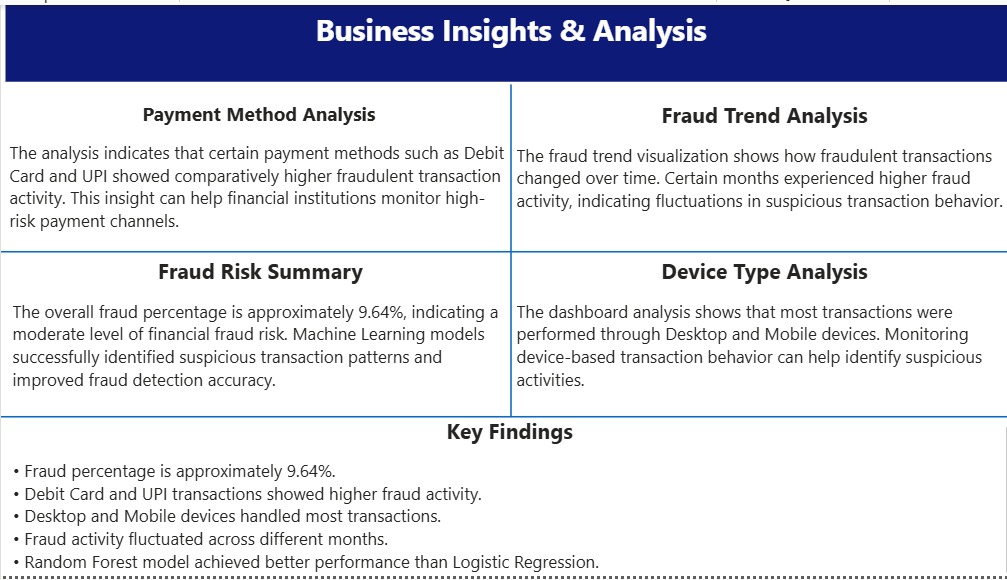

The page's visual inventory and layout, read from the dashboard file:
{"tool":"powerbi","page":{"name":"Insights & Analysis","canvas":[1280,720],"ordinal":1},"visuals":[{"type":"textbox","box":[644.4,115.3,635,196.5],"z":0},{"type":"textbox","box":[5.7,115.3,638.7,196.5],"z":1000},{"type":"textbox","box":[644.4,311.8,635,207.9],"z":2000},{"type":"textbox","box":[9.4,311.8,635,207.9],"z":3000},{"type":"textbox","box":[9.4,519.7,1269.9,200.3],"z":4000},{"type":"textbox","box":[5.7,0,1273.7,96.4],"z":5000},{"type":"shape","box":[0,160.6,1279.4,300.5],"z":5001},{"type":"shape","box":[0,368.5,1279.4,300.5],"z":5002},{"type":"shape","box":[100.2,100.2,1084.7,419.5],"z":5003}]}

Visuals, with their boxes in screenshot pixels (x1, y1, x2, y2), scaled from the page's 1280x720 canvas onto the 1007x580 screenshot:
textbox: l=507, t=93, r=1006, b=251
textbox: l=4, t=93, r=507, b=251
textbox: l=507, t=251, r=1006, b=419
textbox: l=7, t=251, r=507, b=419
textbox: l=7, t=419, r=1006, b=579
textbox: l=4, t=0, r=1006, b=78
shape: l=0, t=129, r=1006, b=371
shape: l=0, t=297, r=1006, b=539
shape: l=79, t=81, r=932, b=419
